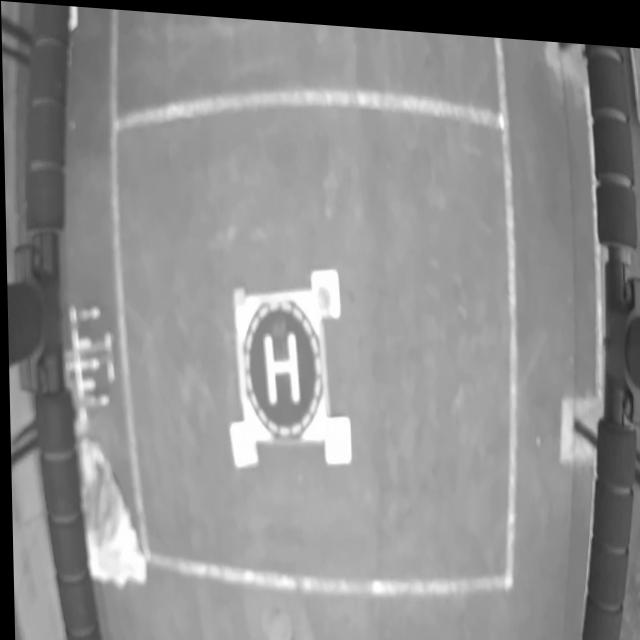Helipad: (260, 327, 298, 401)
